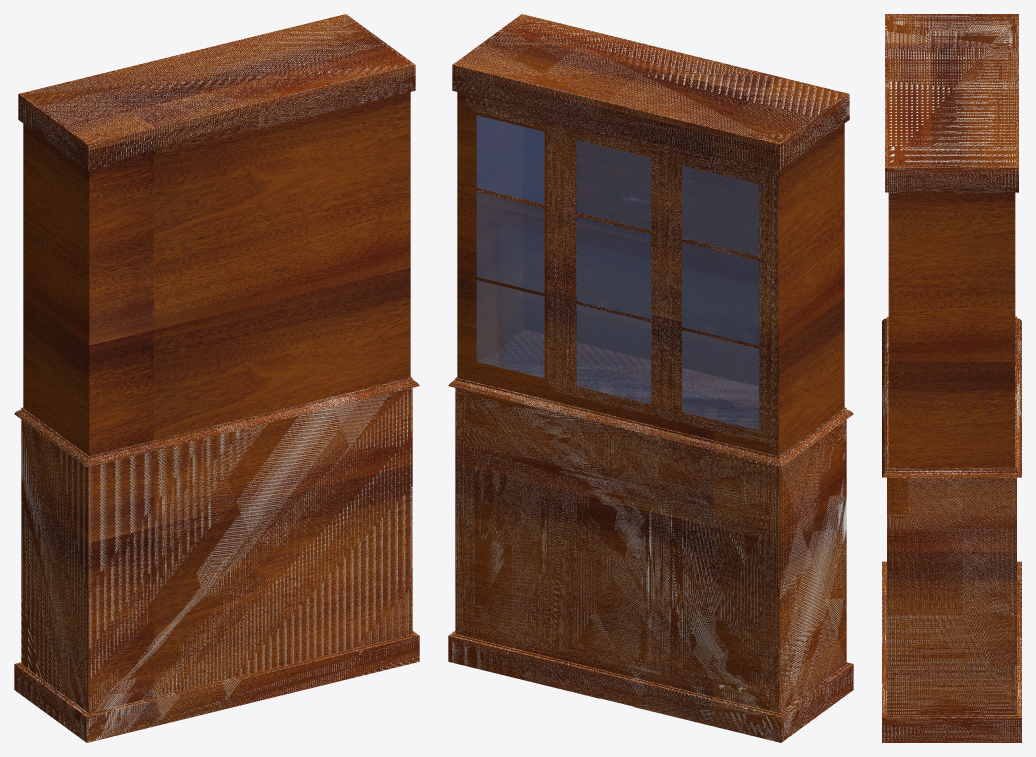
3 views of the same model, side by side, from view 1: azimuth 30°, elevation 25°; view 2: azimuth 150°, elevation 25°; view 3: azimuth 270°, elevation 25° (orthographic). The views are drawn at different scales.
Parts seen in each view (by area): view 1: mesh1_mesh1-geometry; view 2: mesh1_mesh1-geometry; view 3: mesh1_mesh1-geometry.
Boxes of the visible parts, left/top/right/bottom form: mesh1_mesh1-geometry: left=14, top=14, right=419, bottom=742; mesh1_mesh1-geometry: left=448, top=14, right=853, bottom=742; mesh1_mesh1-geometry: left=882, top=14, right=1021, bottom=742.
Bounding box in the file's own units: 0.4957 × 0.848 × 0.1873.
